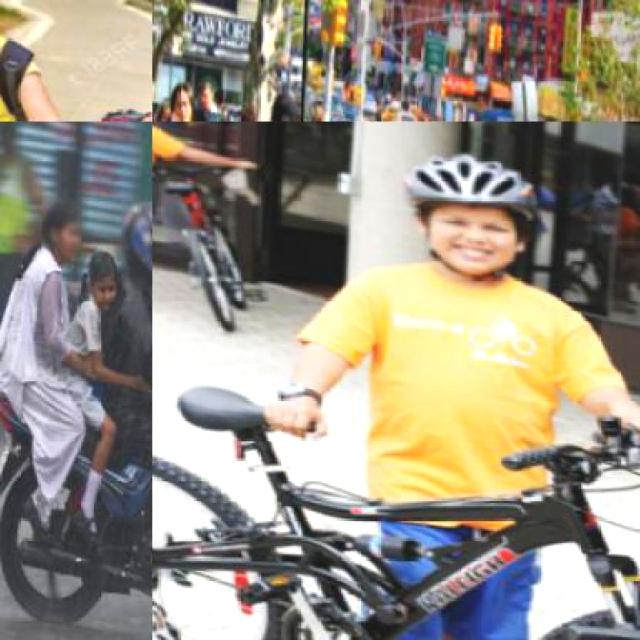With Helmet: (377, 131, 560, 291), (108, 183, 150, 295)
Without Helmet: (33, 191, 84, 252), (78, 244, 119, 299)
